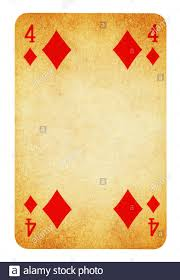four of diamonds: (17, 14, 164, 246)
